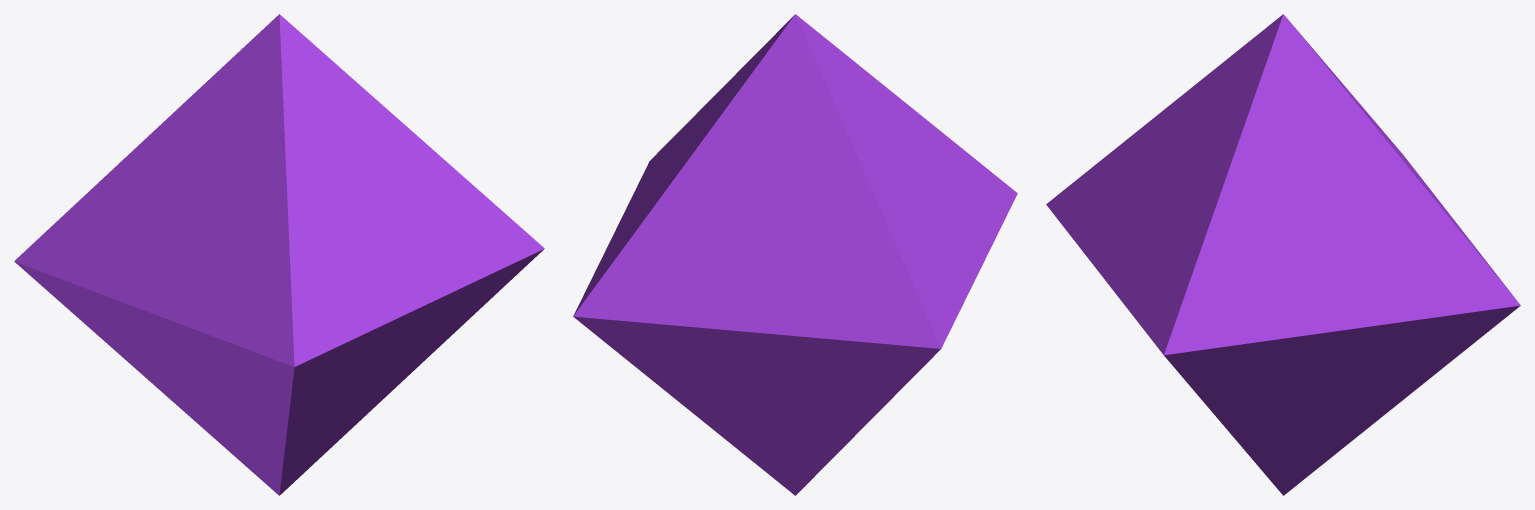
The model's file is Crystal.003_chunks.fbx.
3 renders of one model, left to right at view 1: azimuth 30°, elevation 25°; view 2: azimuth 150°, elevation 25°; view 3: azimuth 270°, elevation 25°, orthographic.
Parts seen in each view (by area): view 1: Crystal.003_13, Crystal.003_9, Crystal.003_10, Crystal.003_5, Crystal.003_15, Crystal.003_12, Crystal.003_18, Crystal.003_14, Crystal.003_4, Crystal.003_7, Crystal.003_8, Crystal.003_16; view 2: Crystal.003_3, Crystal.003_2, Crystal.003_9, Crystal.003_11, Crystal.003_1, Crystal.003_13, Crystal.003_10, Crystal.003_6, Crystal.003_14, Crystal.003_15, Crystal.003_5, Crystal.003_18 (+3 smaller); view 3: Crystal.003_14, Crystal.003_2, Crystal.003_13, Crystal.003_11, Crystal.003_12, Crystal.003_4, Crystal.003_6, Crystal.003_10, Crystal.003_1, Crystal.003_7.
Part boxes in pixels (x1,y1,x2,y2): Crystal.003_13: (191, 14, 420, 300); Crystal.003_9: (14, 97, 237, 324); Crystal.003_10: (210, 136, 371, 369); Crystal.003_5: (169, 368, 363, 495); Crystal.003_15: (195, 284, 328, 396); Crystal.003_12: (403, 208, 544, 293); Crystal.003_18: (112, 259, 225, 383); Crystal.003_14: (329, 58, 511, 219); Crystal.003_4: (304, 259, 533, 472); Crystal.003_7: (332, 271, 498, 370); Crystal.003_8: (73, 313, 219, 401); Crystal.003_16: (195, 364, 330, 411); Crystal.003_3: (697, 200, 894, 423); Crystal.003_2: (573, 170, 779, 374); Crystal.003_9: (815, 112, 970, 381); Crystal.003_11: (607, 52, 844, 247); Crystal.003_1: (645, 365, 866, 435); Crystal.003_13: (760, 14, 897, 125); Crystal.003_10: (871, 97, 990, 198); Crystal.003_6: (709, 426, 830, 477); Crystal.003_14: (628, 42, 767, 217); Crystal.003_15: (963, 171, 1017, 247); Crystal.003_5: (773, 434, 854, 495); Crystal.003_18: (947, 198, 990, 289); Crystal.003_14: (1172, 68, 1337, 312); Crystal.003_2: (1340, 125, 1520, 368); Crystal.003_13: (1102, 14, 1320, 258); Crystal.003_11: (1306, 50, 1407, 329); Crystal.003_12: (1112, 231, 1359, 360); Crystal.003_4: (1169, 350, 1294, 482); Crystal.003_6: (1288, 345, 1375, 476); Crystal.003_10: (1059, 102, 1173, 248); Crystal.003_1: (1351, 367, 1443, 421); Crystal.003_7: (1080, 236, 1138, 322).
Size of the model in its own units: 914 by 1024 by 914.
